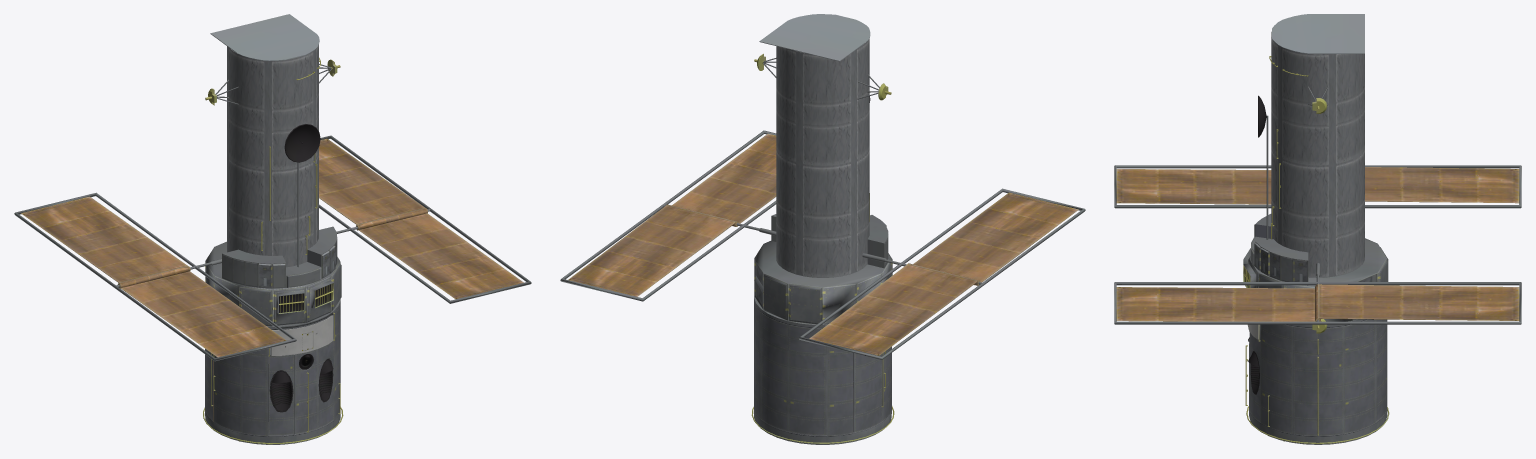
The model's file is hubble.glb.
The picture shows the model from 3 angles, left to right: view 1: azimuth 30°, elevation 25°; view 2: azimuth 150°, elevation 25°; view 3: azimuth 270°, elevation 25°; orthographic projection.
Visible parts, largest first — view 1: hst; view 2: hst; view 3: hst.
Part boxes in pixels (box(x1,y1,x2,y2)): hst: box(14, 14, 531, 444); hst: box(560, 14, 1085, 444); hst: box(1114, 14, 1521, 444).
Bounding box in the file's own units: 458 × 525 × 501.
Materials: 5 (5 with a texture image).
